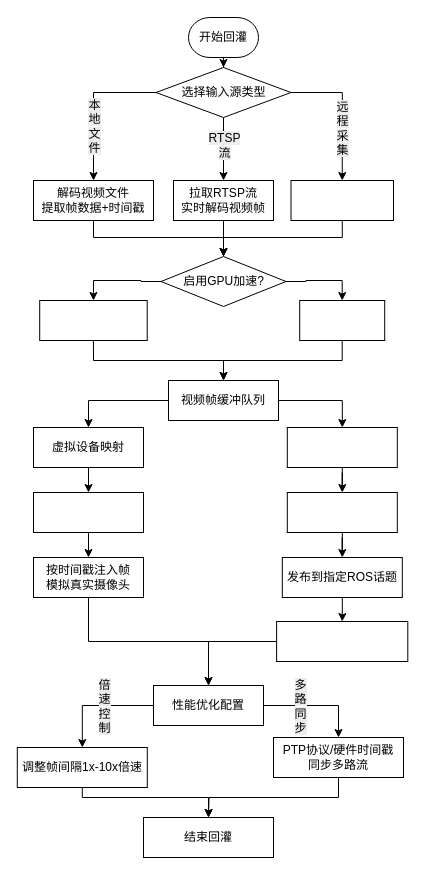
Image size: 426x875. Some labels were removed from this diagram. The centre of each missing label's shape, as x and y in pixels:
CPU软件解码: the point at 342,320
GPU硬件加速解码: the point at 93,320
ROS话题发布: the point at 341,447
v4l2loopback创建 /dev/videoX: the point at 88,512
同步时间戳和相机参数: the point at 342,641
私有协议接收 解码远程视频流: the point at 342,200
转换为sensor_msgs/Image: the point at 341,512
